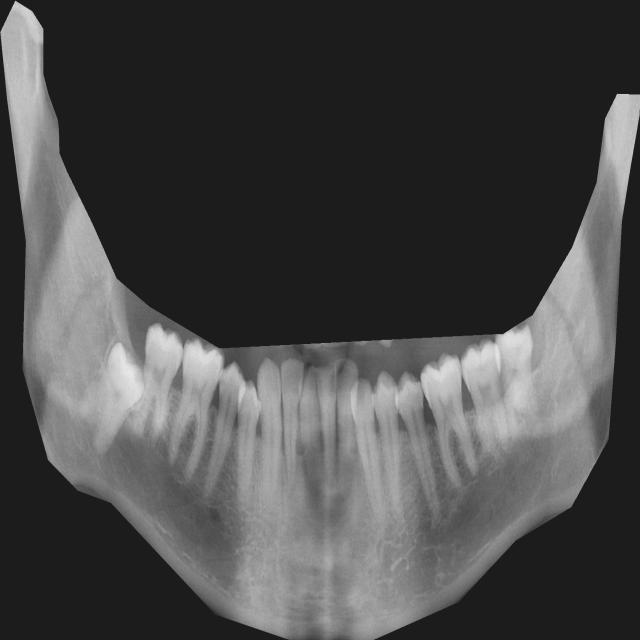mandibula: (0, 1, 640, 640)
